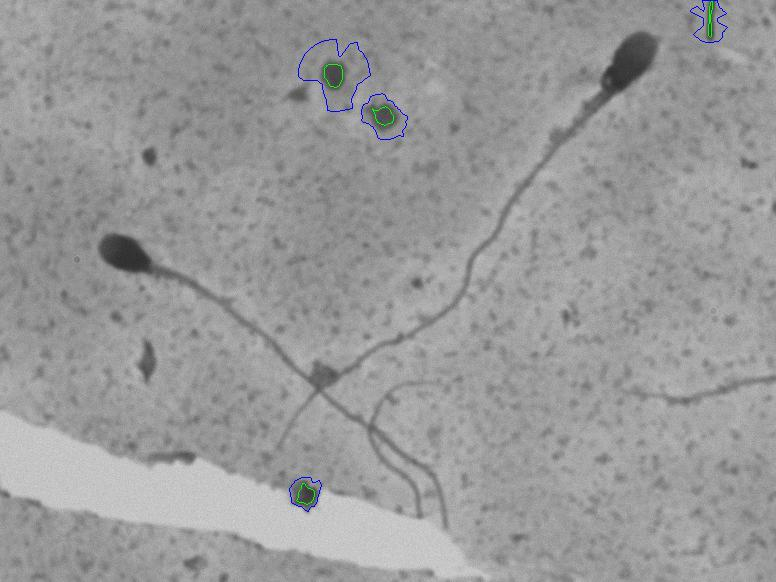Abnormal: (265, 17, 664, 457)
Normal: (83, 209, 465, 521)
